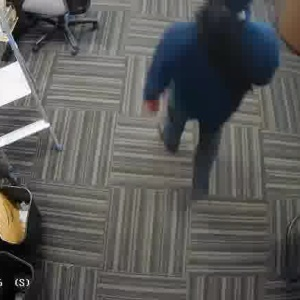person: (153, 0, 267, 195)
